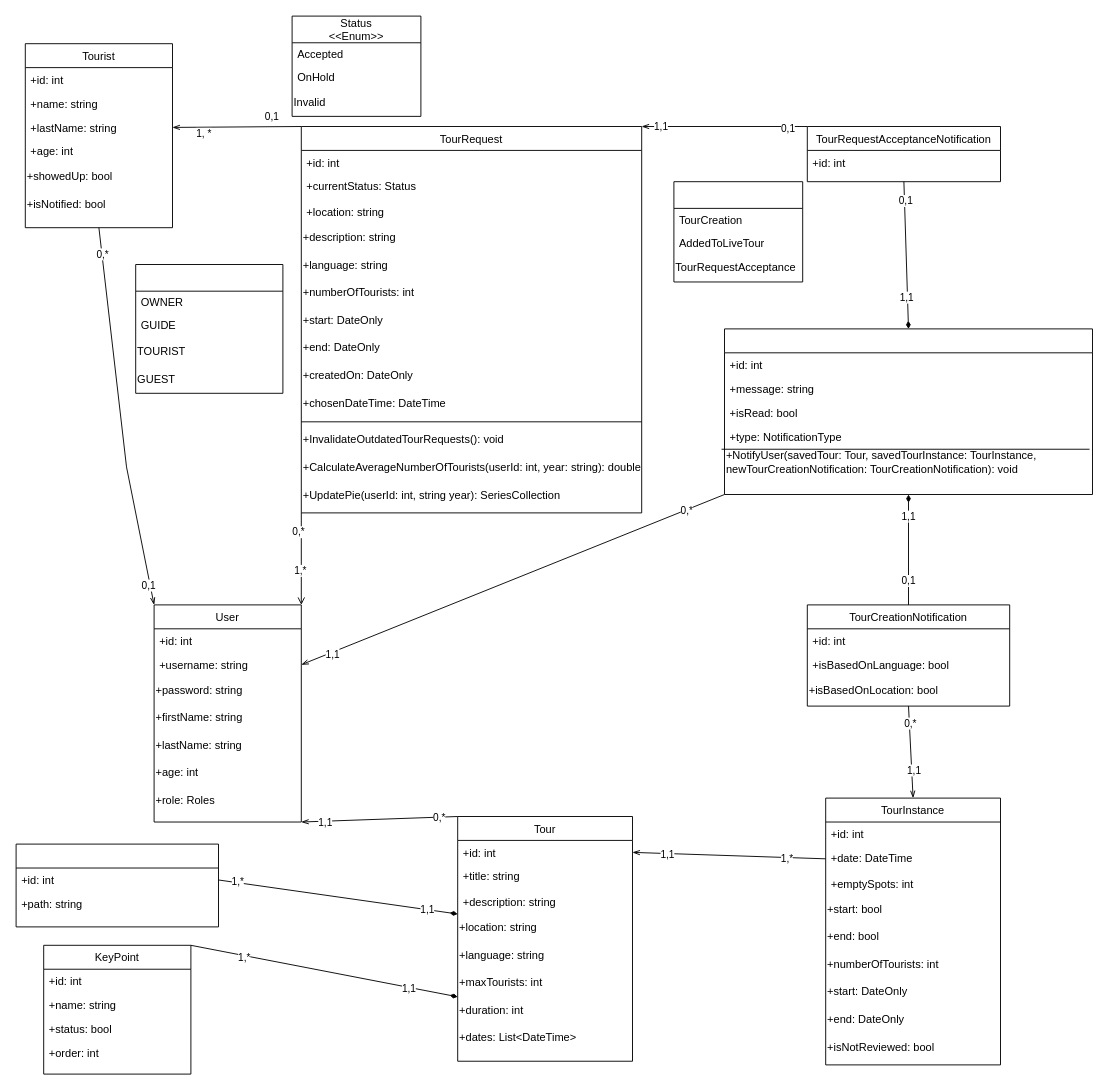
This 1109x1090 diagram has some shape labels left out. Each missing label, with the box of its shape:
NotificationType <<Enum>>: (673, 181, 803, 282)
Picture: (15, 843, 218, 927)
Role <<Enum>>: (135, 264, 283, 393)
TouristNotifications: (724, 328, 1092, 494)
